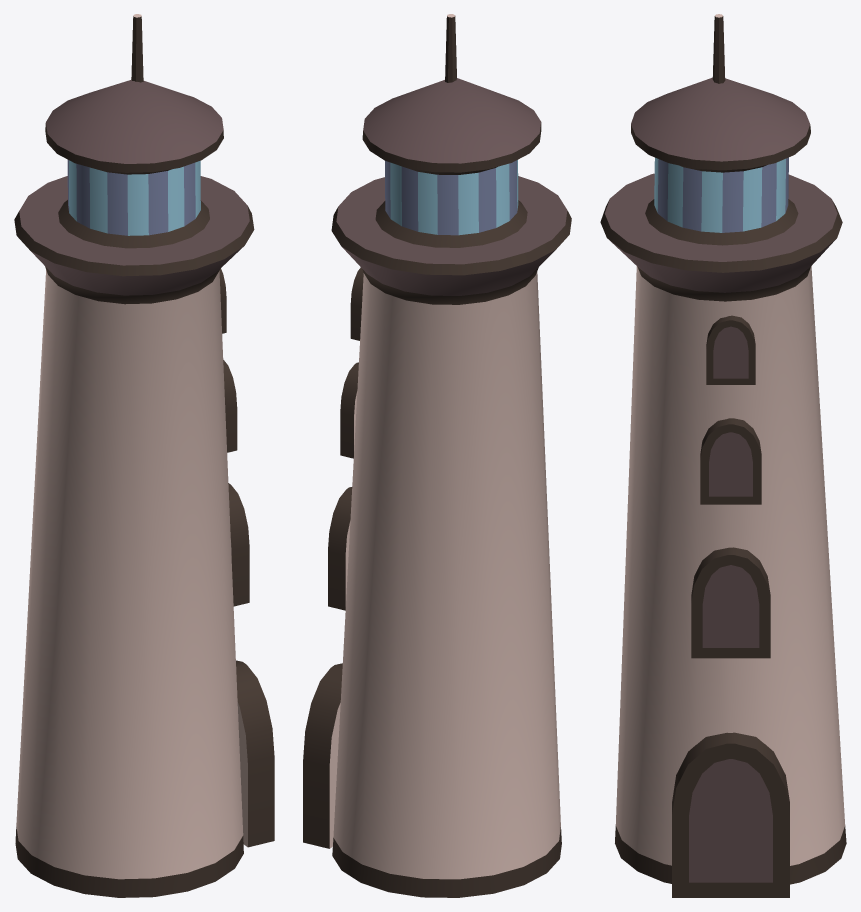
Rendered from lighthouse.fbx.
3 views of the same model, side by side, from view 1: azimuth 30°, elevation 25°; view 2: azimuth 150°, elevation 25°; view 3: azimuth 270°, elevation 25° (orthographic).
Parts seen in each view (by area): view 1: Cylinder.001; view 2: Cylinder.001; view 3: Cylinder.001.
Boxes of the visible parts, x1,y1,x2,y2 form: Cylinder.001: (14,14,274,897); Cylinder.001: (303,14,571,897); Cylinder.001: (600,14,846,897).
Bounding box in the file's own units: 221 × 802 × 216.
